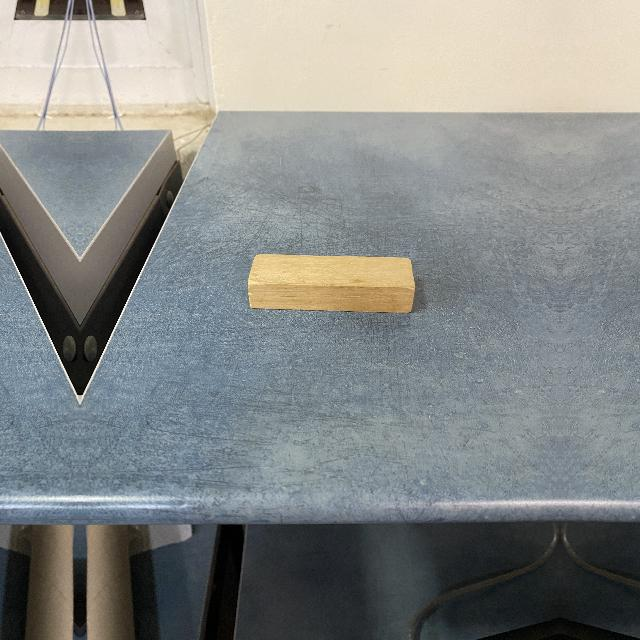jenga: (247, 255, 416, 312)
